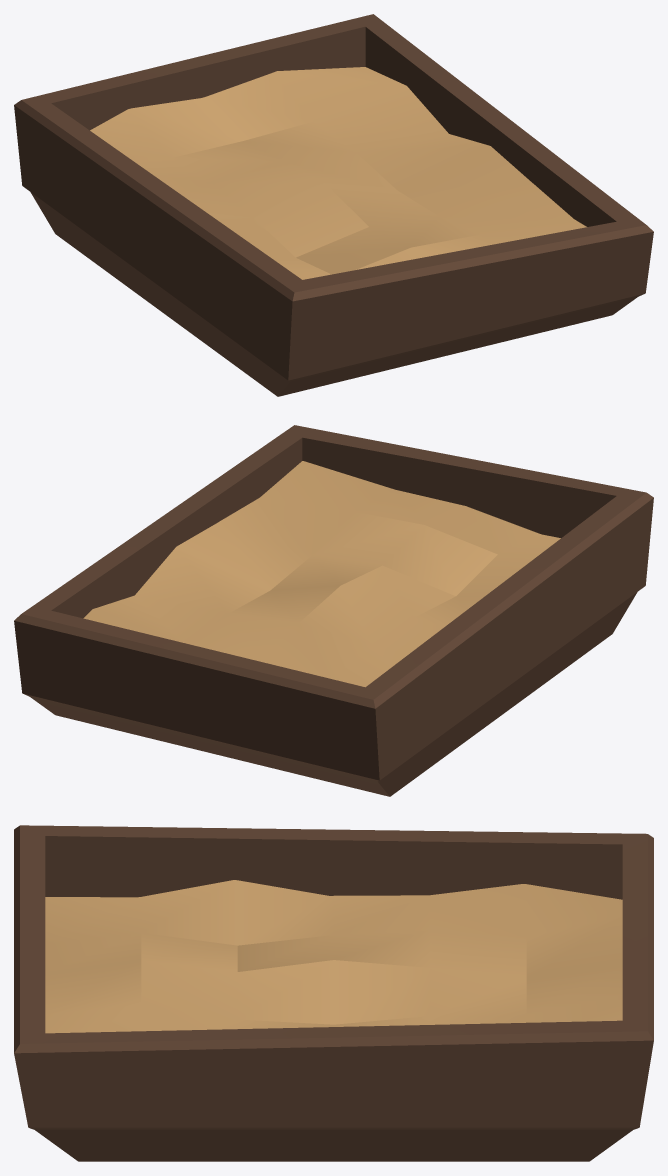
File: fooddish_a.gltf
The picture shows the model from 3 angles, top to bottom: view 1: azimuth 30°, elevation 25°; view 2: azimuth 150°, elevation 25°; view 3: azimuth 270°, elevation 25°; orthographic projection. The views are drawn at different scales.
Visible parts, largest first — view 1: fooddish_a001; view 2: fooddish_a001; view 3: fooddish_a001.
Boxes of the visible parts, x1,y1,x2,y2 form: fooddish_a001: [14, 14, 653, 396]; fooddish_a001: [14, 425, 653, 796]; fooddish_a001: [14, 825, 653, 1161].
Bounding box in the file's own units: 0.7674 × 0.2537 × 1.02.
Materials: 1 (1 with a texture image).
